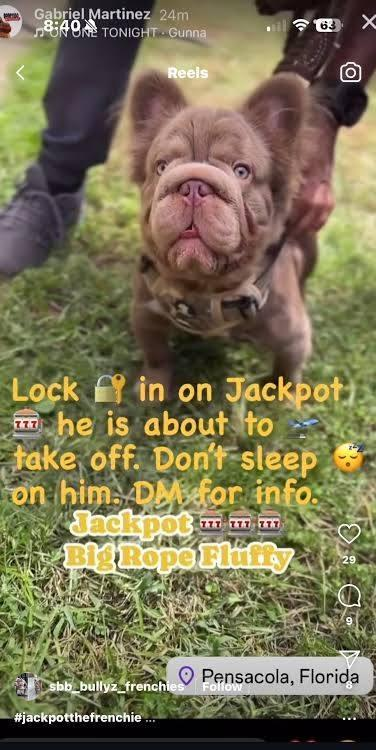non-dog: (0, 1, 376, 279)
puppy-dog: (125, 64, 311, 397)
